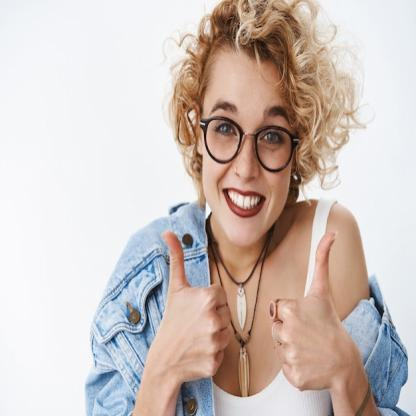thumb_up: (264, 227, 350, 397), (156, 231, 233, 384)
